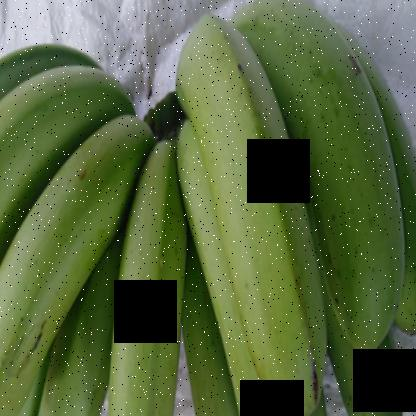freshunripe: (183, 0, 333, 415), (273, 0, 408, 351), (1, 99, 156, 403), (99, 124, 203, 415), (1, 55, 126, 206)
